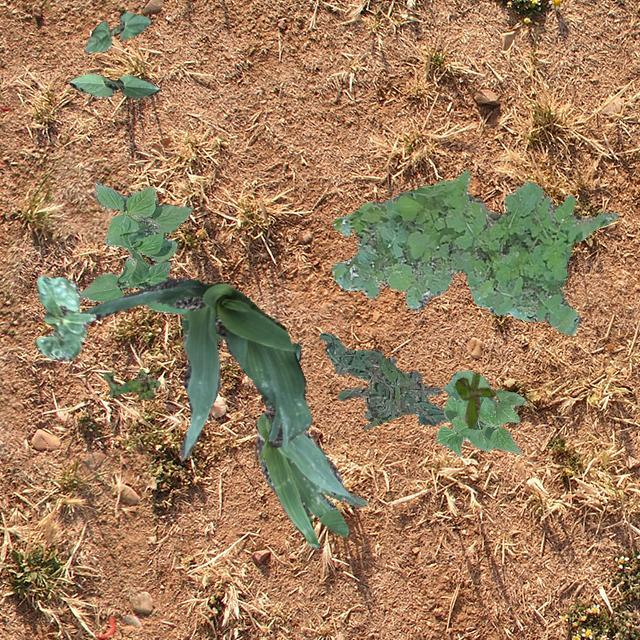crop: (80, 276, 310, 459), (255, 342, 366, 546), (77, 180, 192, 314), (436, 370, 526, 456), (34, 274, 94, 360), (82, 11, 150, 52), (68, 72, 158, 98)
weed: (331, 168, 617, 334), (318, 332, 446, 424), (362, 356, 408, 428), (454, 372, 494, 428), (102, 368, 158, 398)
